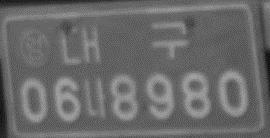0: (218, 70, 249, 118), (20, 77, 49, 123)
6: (54, 75, 83, 123)
8: (181, 70, 213, 118), (110, 72, 140, 121)
9: (145, 73, 176, 121)
나: (82, 75, 108, 121)
대구_D: (60, 19, 191, 67)
영: (20, 29, 53, 68)
